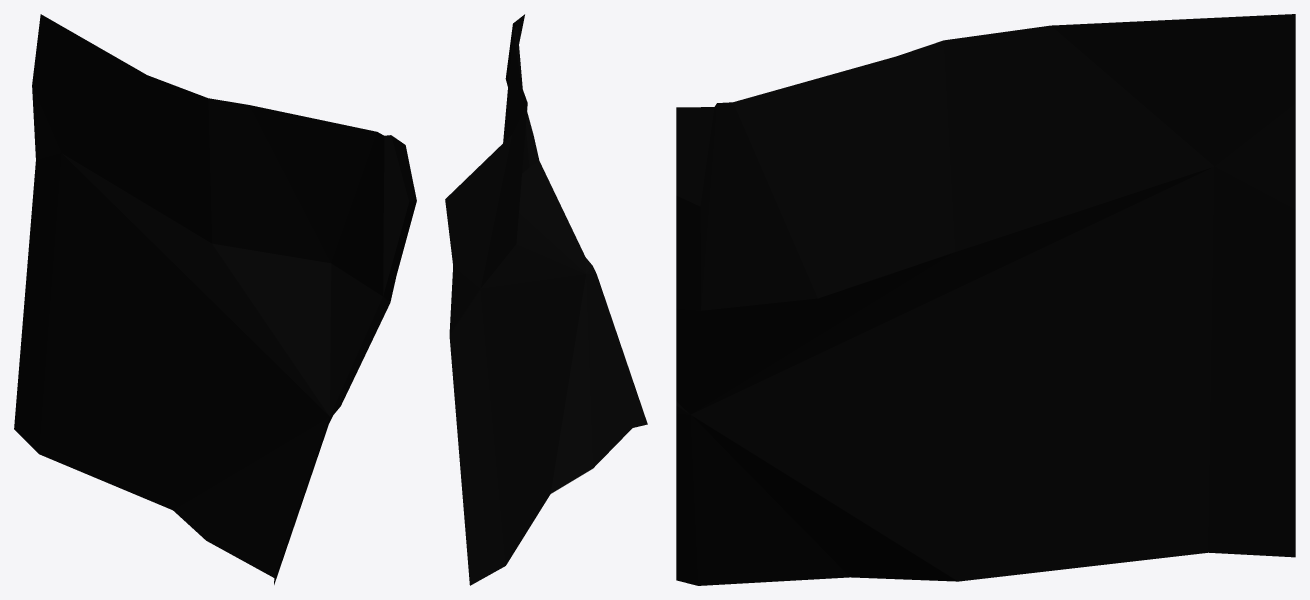
3 views of the same model, side by side, from view 1: azimuth 30°, elevation 25°; view 2: azimuth 150°, elevation 25°; view 3: azimuth 270°, elevation 25° (orthographic). The views are drawn at different scales.
Size of the model in its own units: 1.4 by 2.95 by 2.95.
3 materials, 3 textured.
